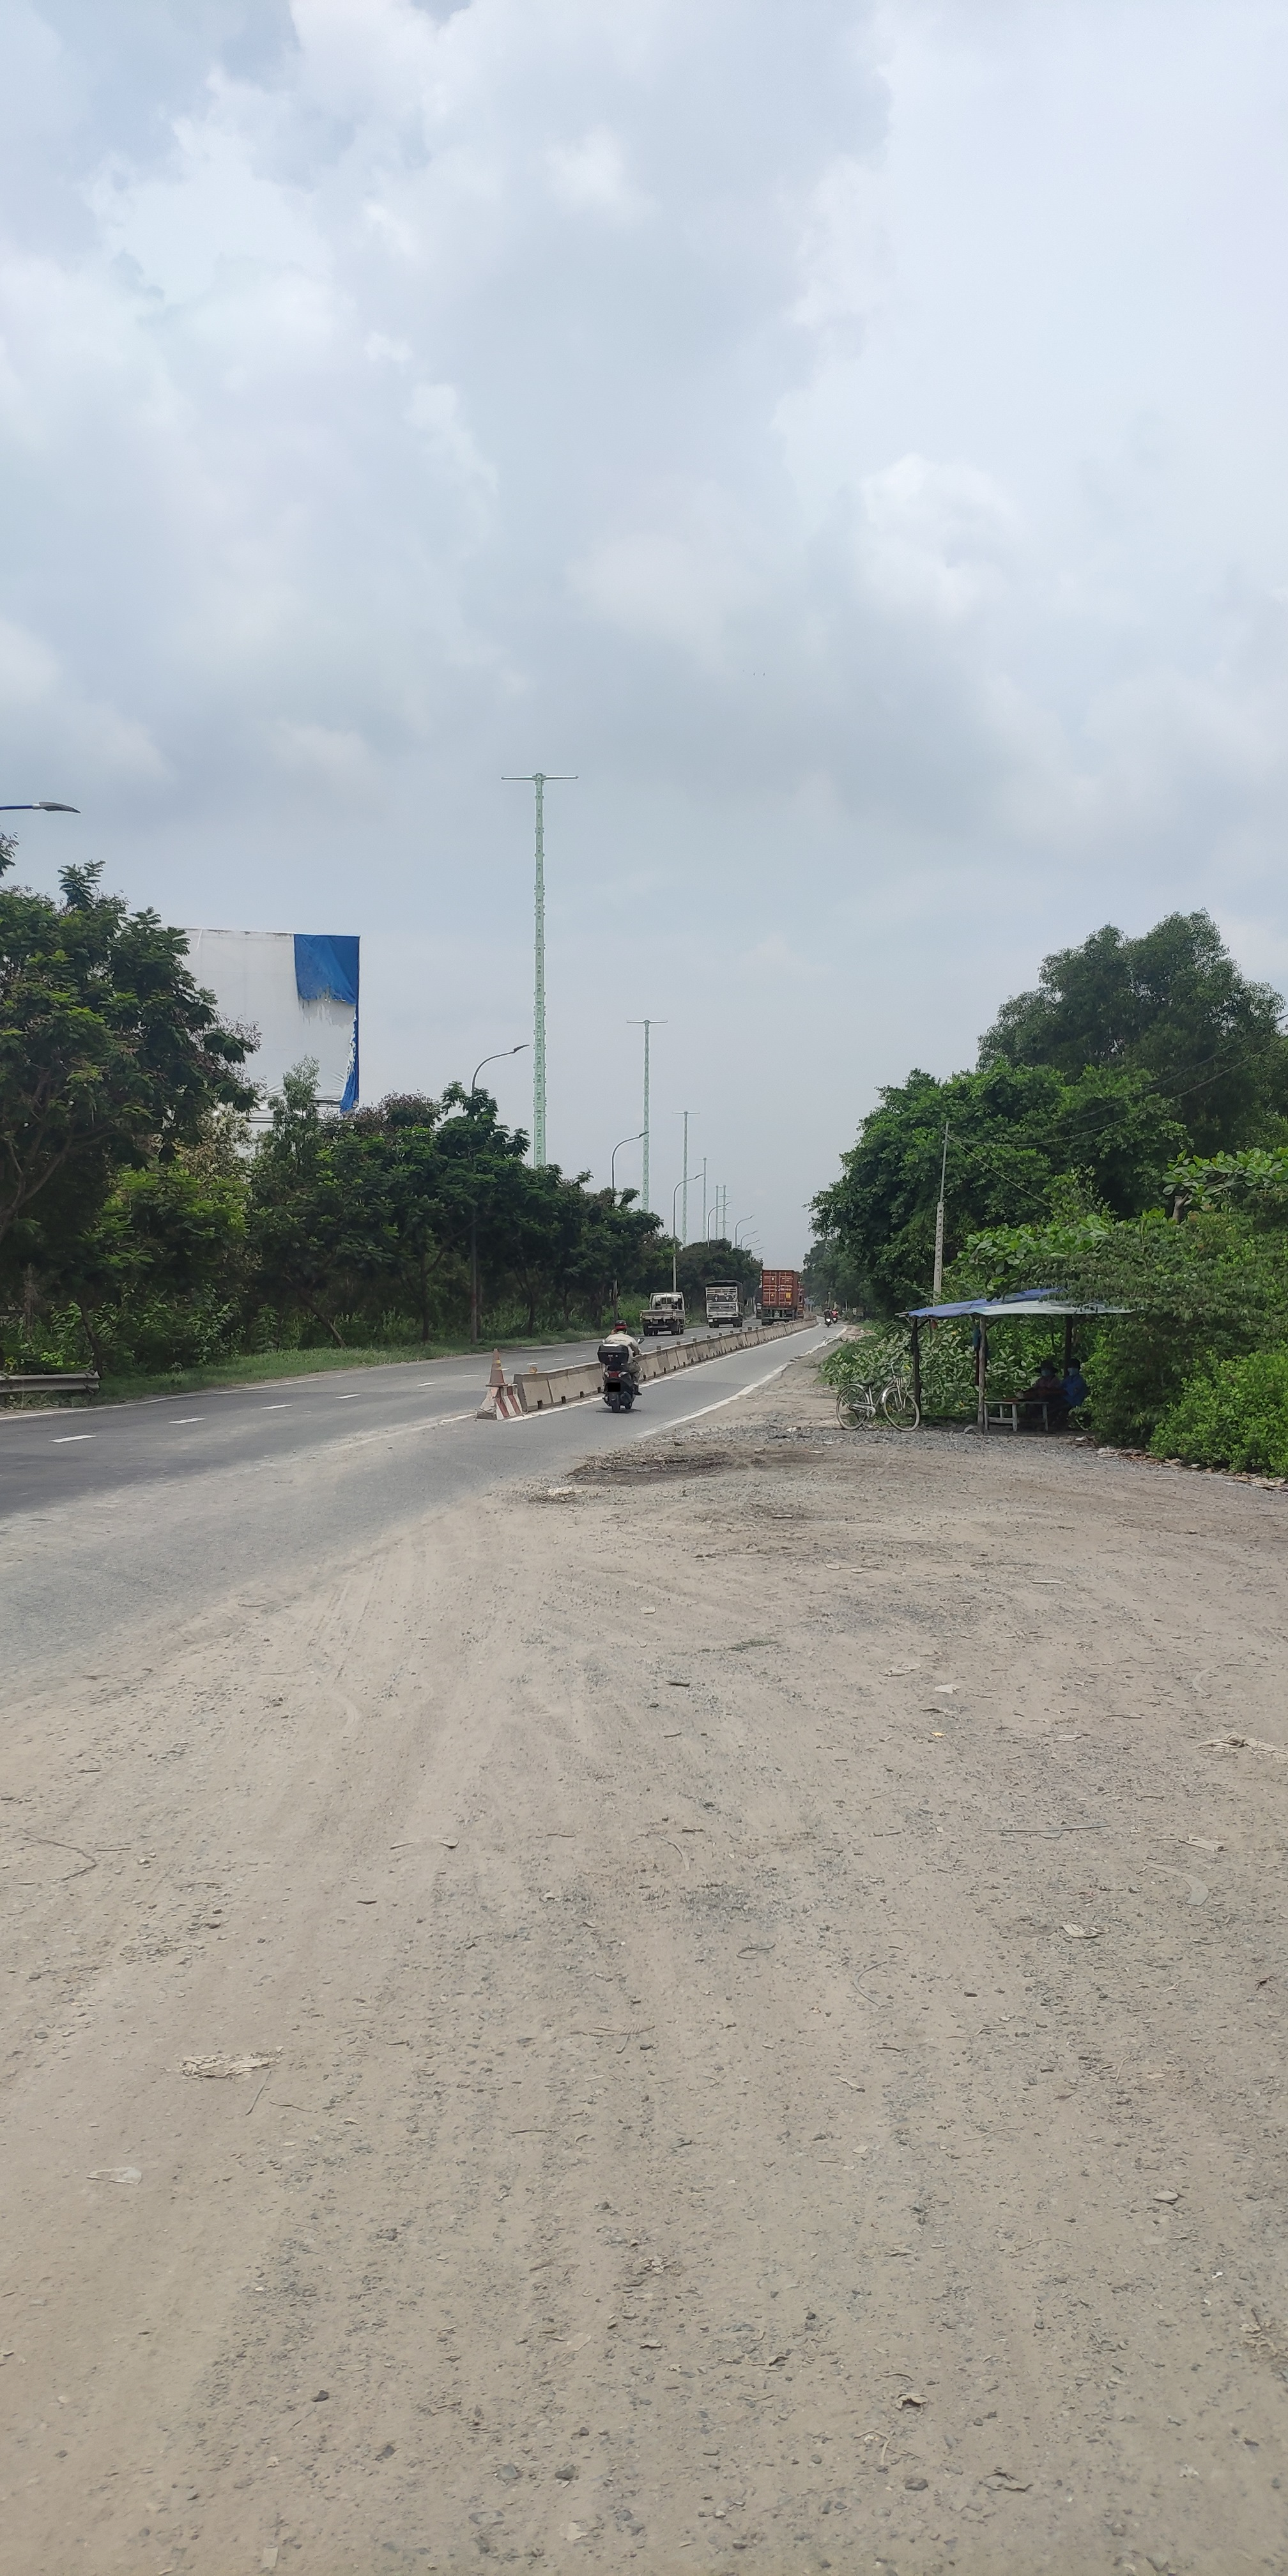hole: (624, 1449, 724, 1479), (521, 1483, 595, 1508)
